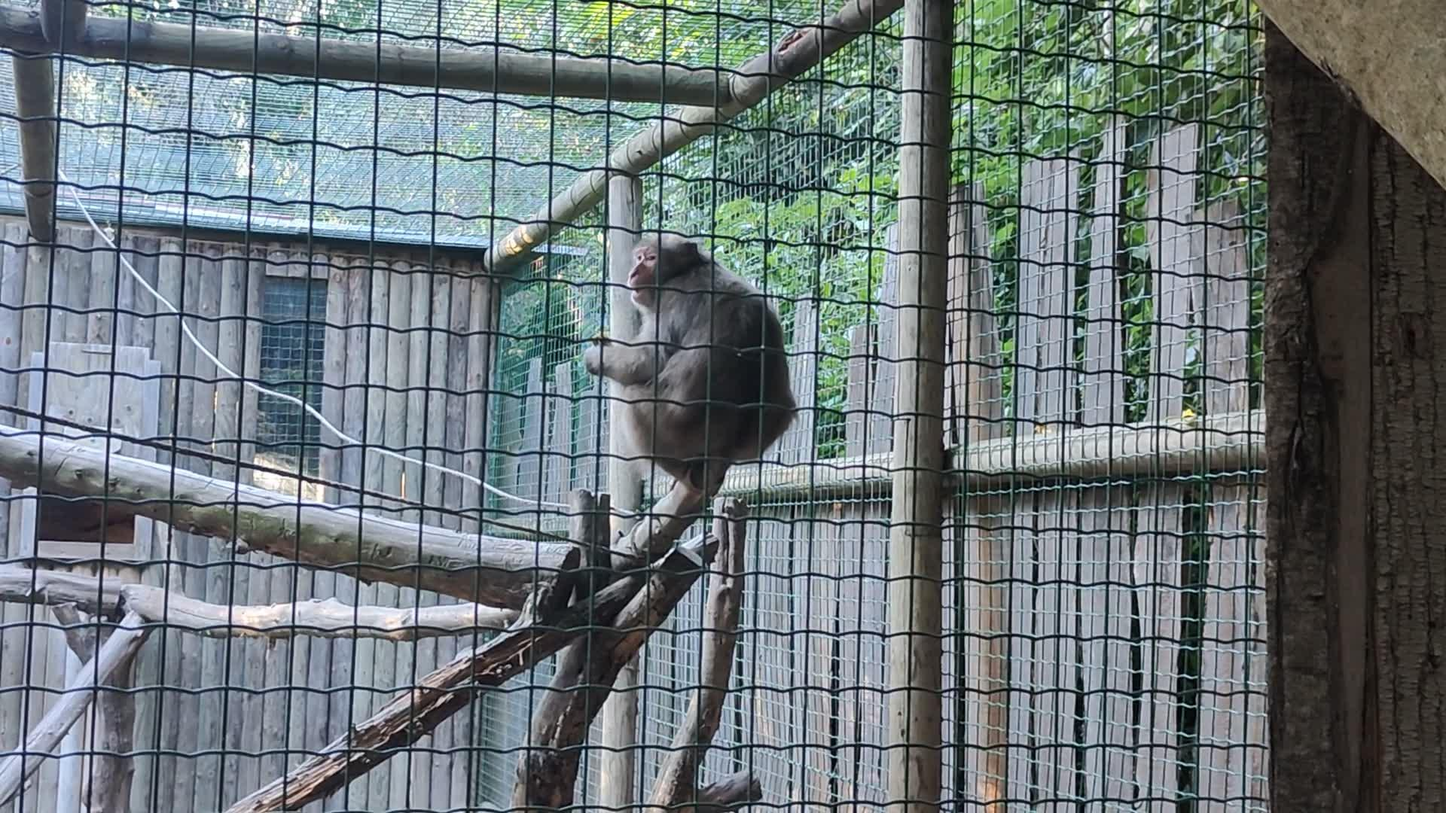boar: (584, 236, 798, 481)
